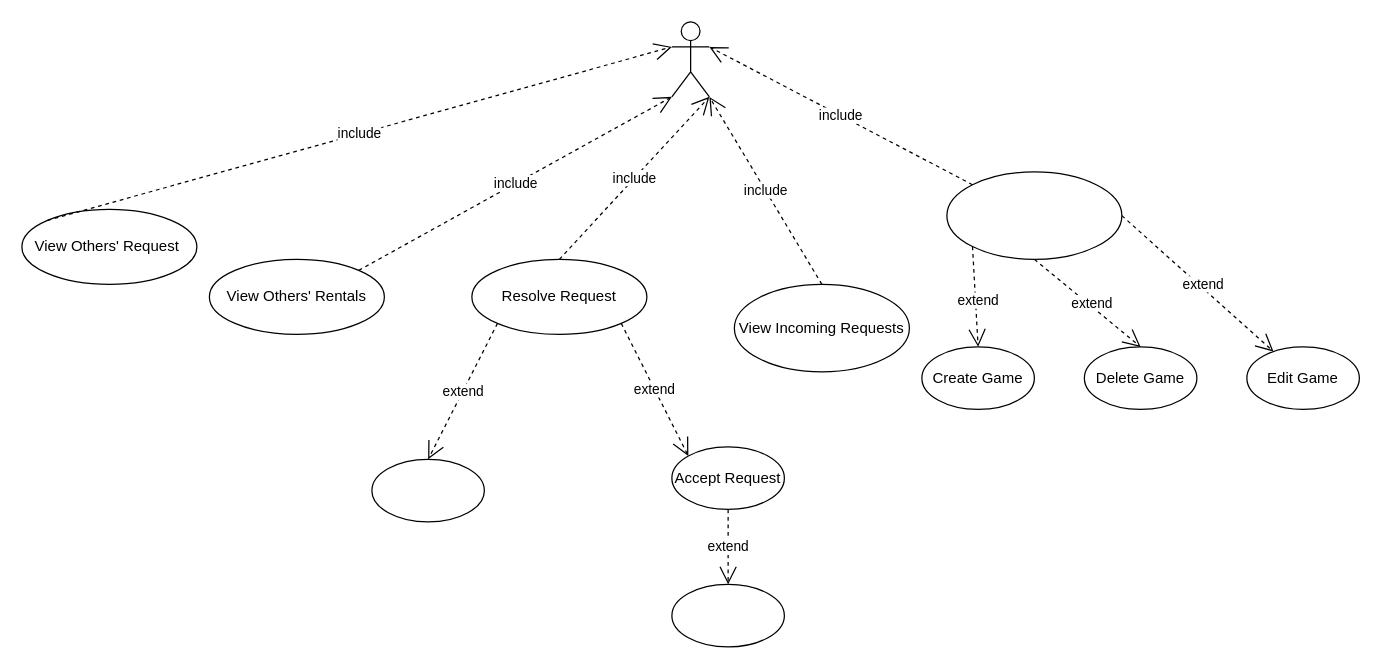
The diagram is 1381 pixels wide and 669 high, and some of its shapes have lost their labels. The box of each missing label's shape, as (x1, y1, x2, y2) in pixels:
Cancel Overlapping Requests: (671, 583, 784, 647)
Decline Request: (371, 458, 484, 522)
Game Owner: (671, 21, 709, 97)
Manage Game Listings: (946, 171, 1122, 259)
